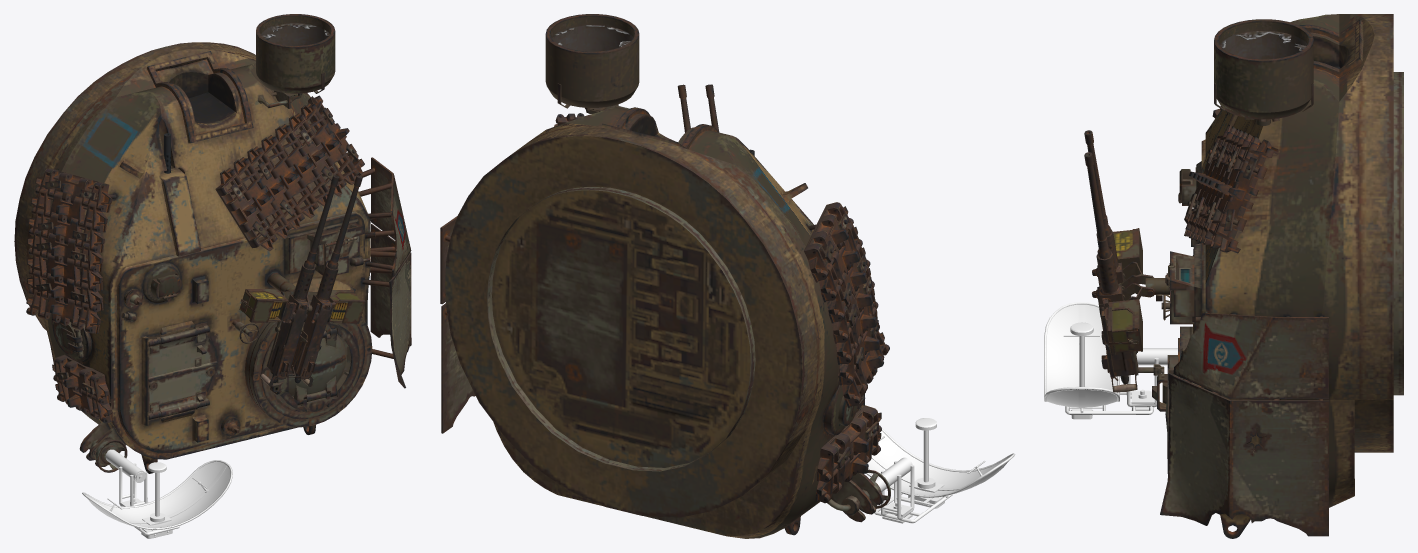
Rendered from Turret_03.glb.
3 views of the same model, side by side, from view 1: azimuth 30°, elevation 25°; view 2: azimuth 150°, elevation 25°; view 3: azimuth 270°, elevation 25° (orthographic). The views are drawn at different scales.
Visible parts, largest first — view 1: set_0_group_0, set_0_group_1; view 2: set_0_group_0, set_0_group_1; view 3: set_0_group_0, set_0_group_1.
Boxes of the visible parts, x1=… form: set_0_group_0: x1=14, y1=14, x2=411, y2=473; set_0_group_1: x1=82, y1=449, x2=232, y2=538; set_0_group_0: x1=440, y1=14, x2=890, y2=538; set_0_group_1: x1=866, y1=418, x2=1015, y2=523; set_0_group_0: x1=1084, y1=14, x2=1403, y2=538; set_0_group_1: x1=1044, y1=302, x2=1177, y2=419.
Size of the model in its own units: 3.11 by 3.09 by 2.01.
3 materials, 1 textured.
